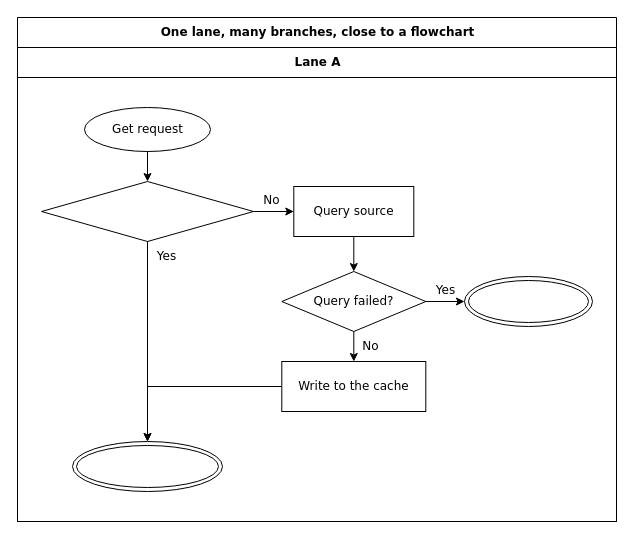
Image size: 634x539. Some labels were removed from this diagram. Each missing label, with the centre of its shape:
"Found in the cache?" belongs at point 147,211.
"Return result" belongs at point 147,466.
"Send error" belongs at point 528,301.
